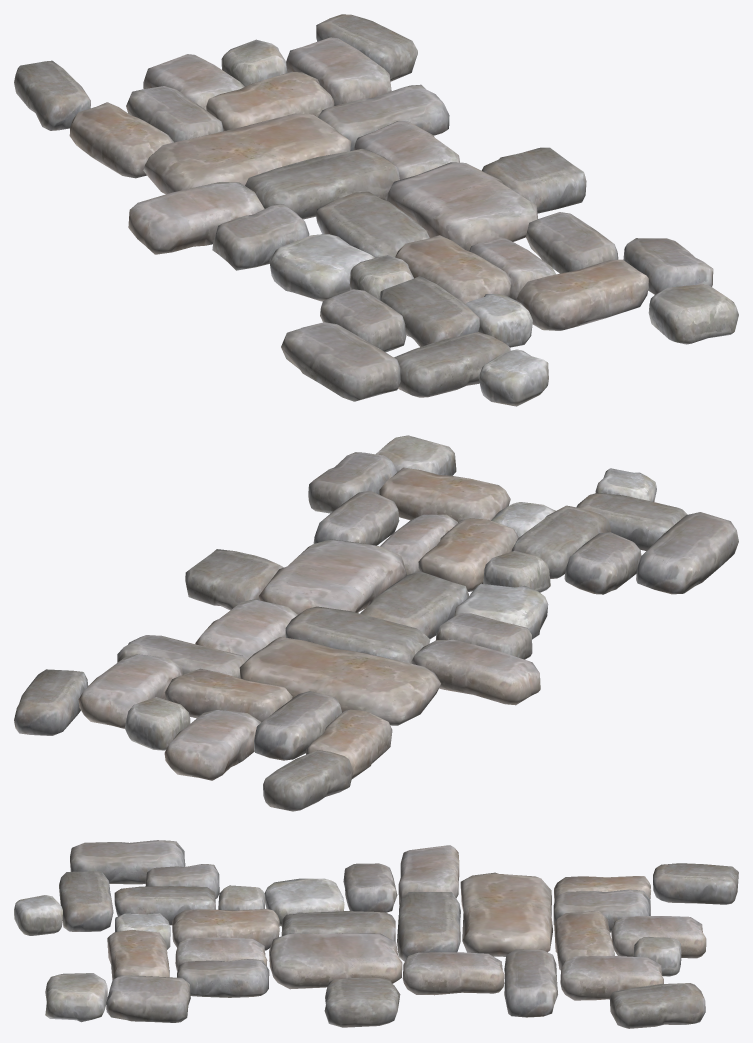
3 renders of one model, top to bottom at view 1: azimuth 30°, elevation 25°; view 2: azimuth 150°, elevation 25°; view 3: azimuth 270°, elevation 25°, orthographic. The views are drawn at different scales.
Visible parts, largest first — view 1: SM_Pavement_03_LOD0; view 2: SM_Pavement_03_LOD0; view 3: SM_Pavement_03_LOD0.
Part boxes in pixels (x1=…): SM_Pavement_03_LOD0: x1=14, y1=14, x2=738, y2=406; SM_Pavement_03_LOD0: x1=14, y1=435, x2=738, y2=811; SM_Pavement_03_LOD0: x1=14, y1=840, x2=738, y2=1028.
Size of the model in its own units: 2.15 by 0.2275 by 3.98.
Materials: 1 (1 with a texture image).
